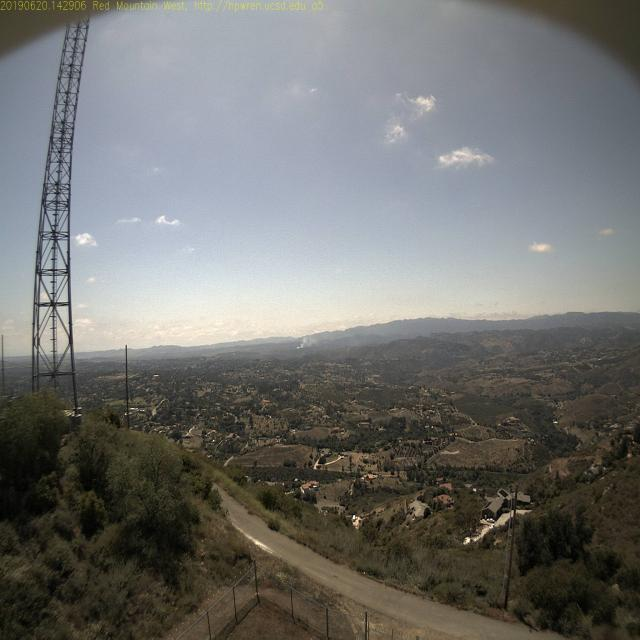smoke: (289, 330, 317, 360)
